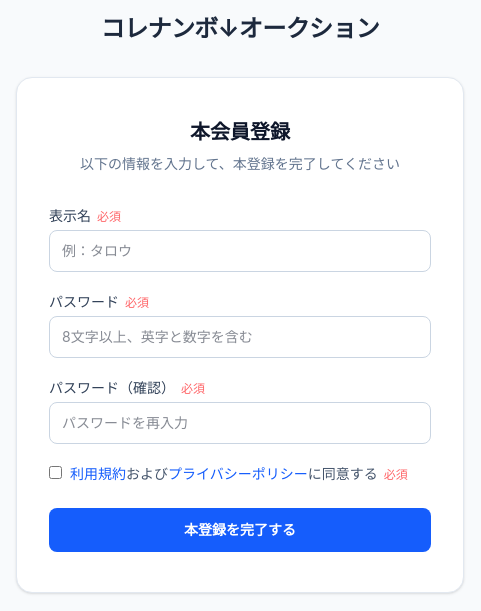
UserRegistrationVerifyPage - 正常系 › 送信中はボタンが無効化される
Type "テストユーザー" into the field with placeholder "例：タロウ" at (240, 251), box [49,230,431,272]
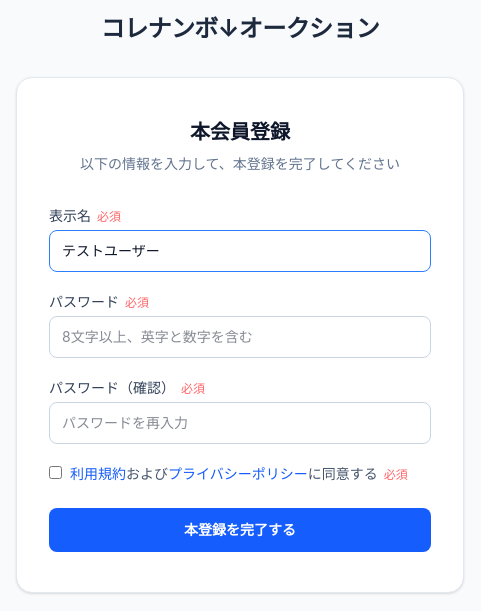
Type "password123" into the password field with placeholder "8文字以上、英字と数字を含む" at (240, 337), box [49,316,431,358]
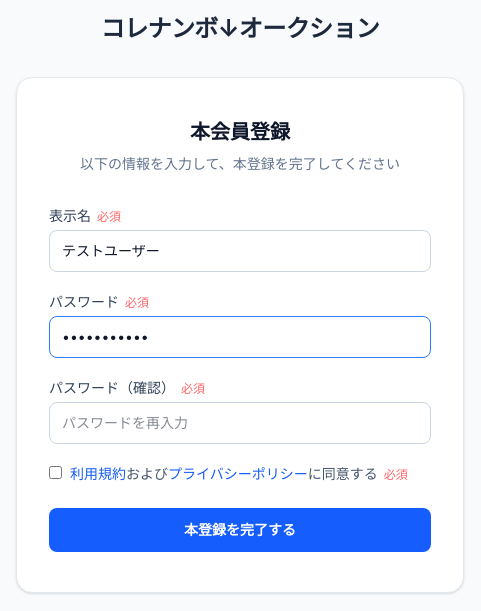
Type "password123" into the password field with placeholder "パスワードを再入力" at (240, 423), box [49,402,431,444]
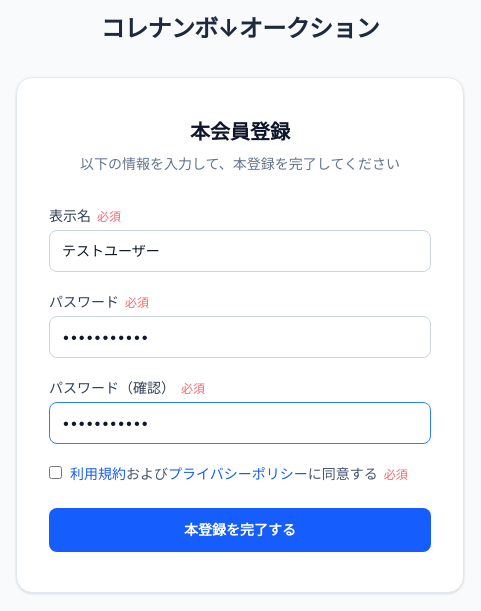
Click the checkbox at (56, 472), box [49,466,62,479]
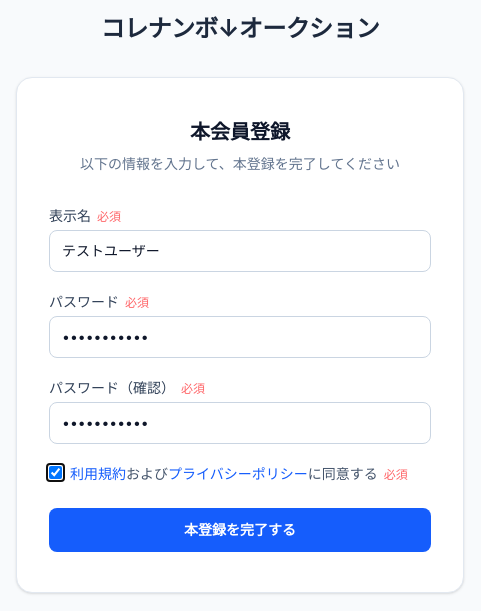
Click the button "本登録を完了する" at (240, 530), box [49,508,431,552]
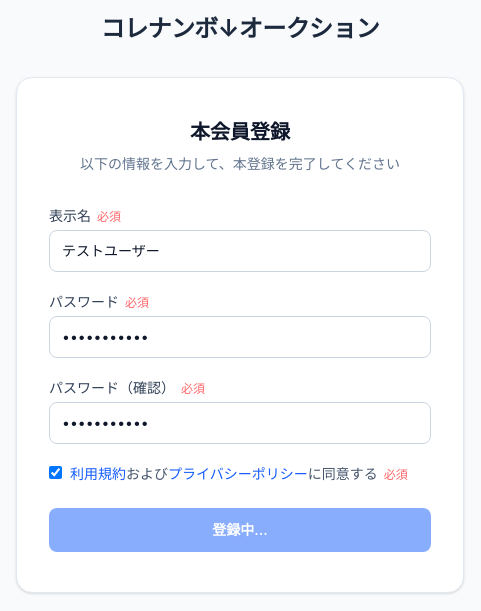
Expected: the button "登録中..." is disabled, [49,508,431,552]
